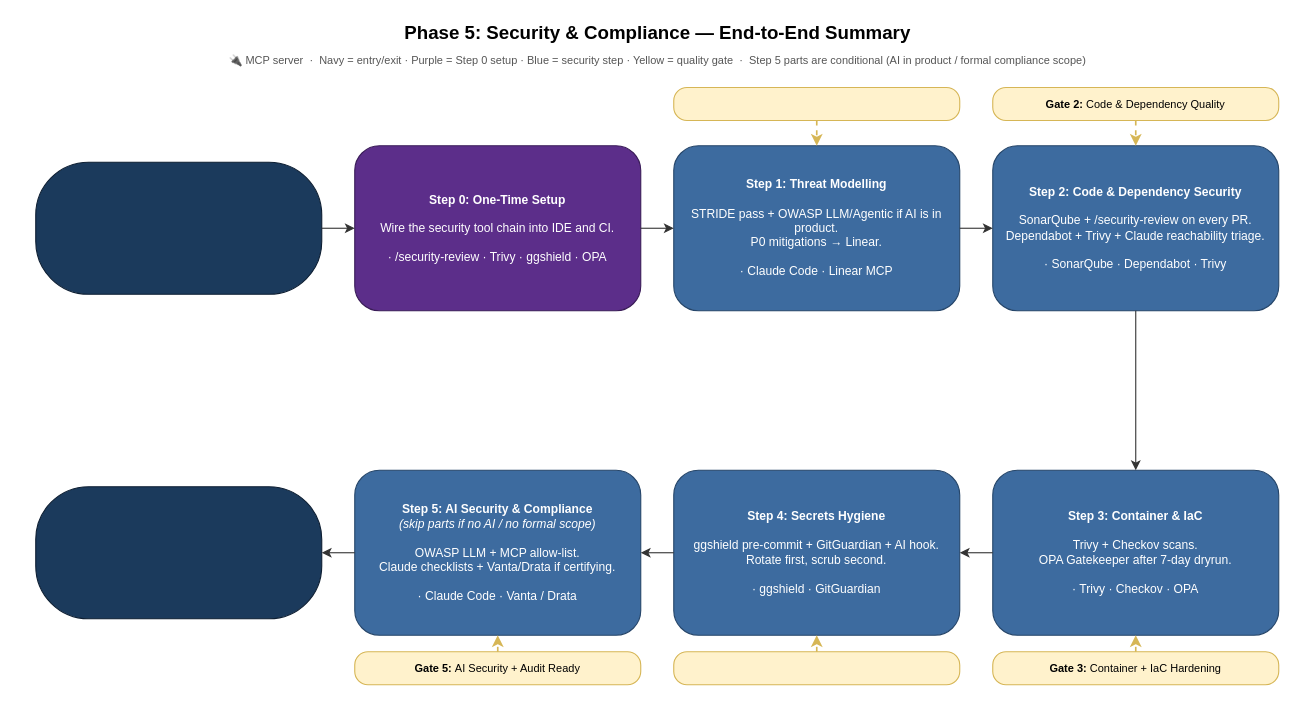
Some shapes in this 1313 by 704 pixel diagram are drawn without their labels. The shapes that lost their labels are listed below. From the top down, each one's box as (x1, y1, x2, y2) in pixels, then its label:
(673, 86, 960, 120): Gate 1: Threat Model + Baseline
(35, 161, 322, 294): Phase 5 Entry Continuous from project start
(35, 486, 322, 619): ← Phase 6 / 7: Delivery Security posture verified. Audit-ready if in scope.
(673, 651, 960, 685): Gate 4: Secrets Hygiene
